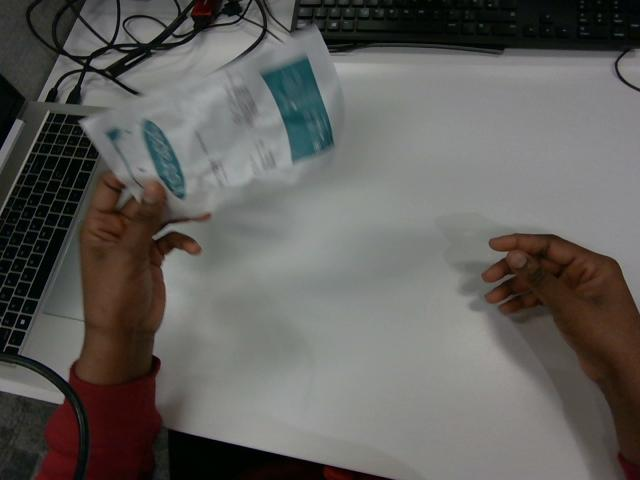gallipot: (81, 28, 343, 218)
